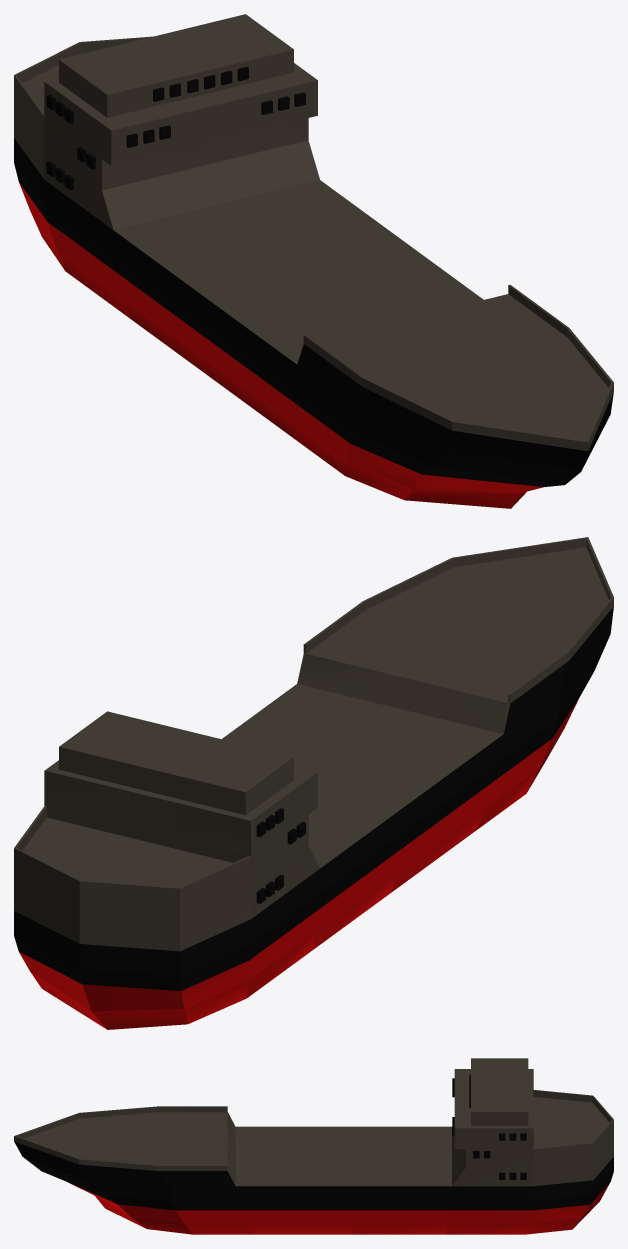
Rendered from Ship-Harbour-v002_HC.fbx.
3 views of the same model, one above another, from view 1: azimuth 30°, elevation 25°; view 2: azimuth 150°, elevation 25°; view 3: azimuth 270°, elevation 25° (orthographic). The views are drawn at different scales.
Visible parts, largest first — view 1: Ship_01; view 2: Ship_01; view 3: Ship_01.
Boxes of the visible parts, left/top/right/bottom form: Ship_01: left=14, top=14, right=613, bottom=508; Ship_01: left=14, top=537, right=613, bottom=1029; Ship_01: left=14, top=1058, right=613, bottom=1234.
Size of the model in its own units: 6.91 by 7.23 by 28.61.
